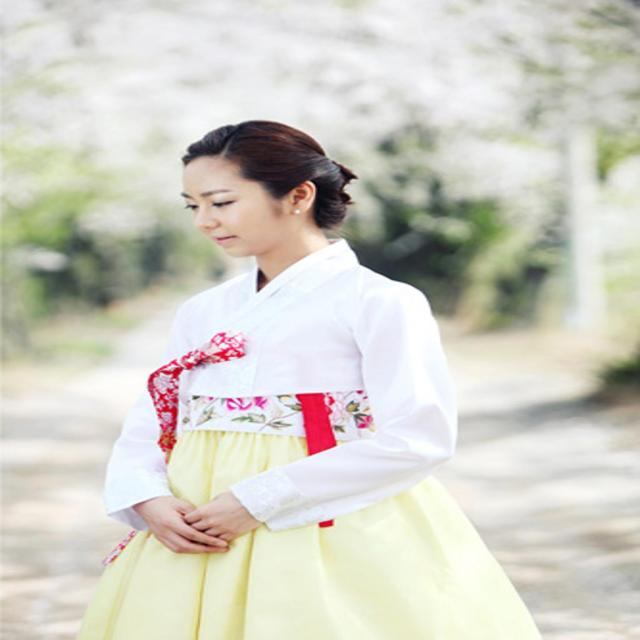nomask: (185, 157, 288, 251)
